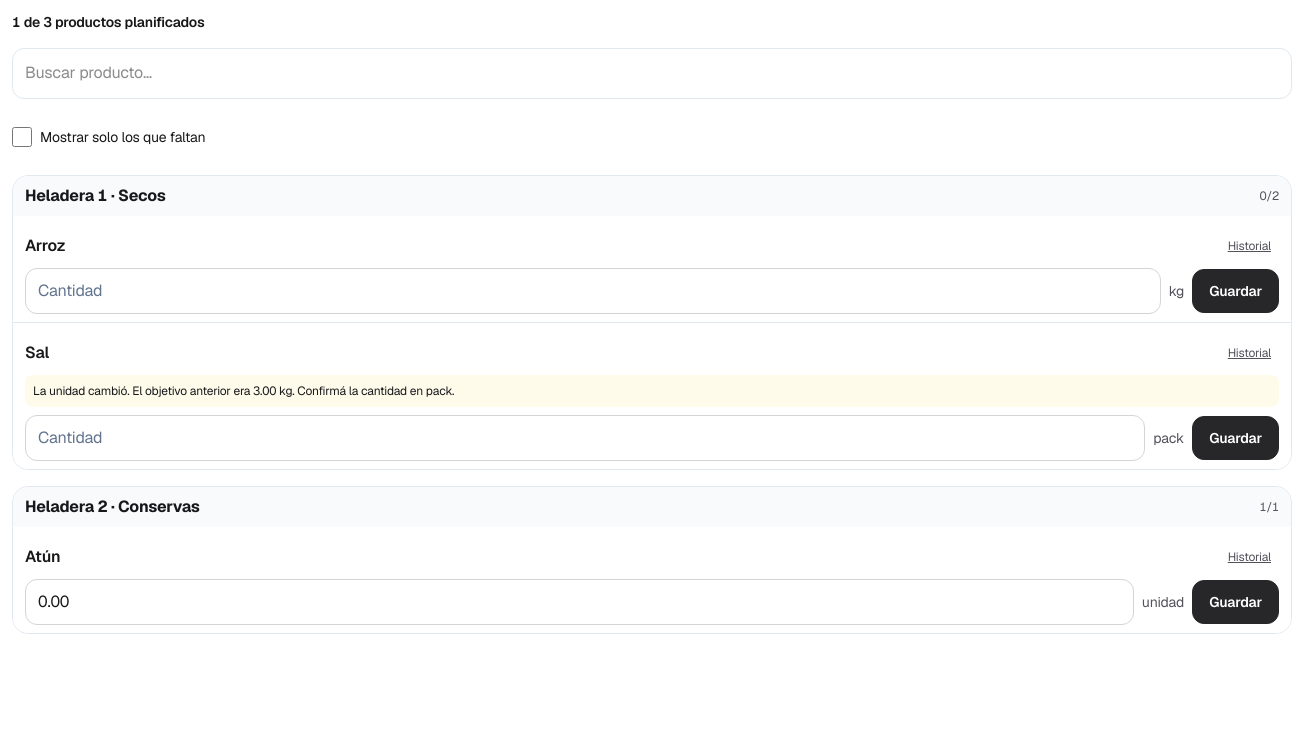
it: counts zero as planned, flags changed units, and filters missing products and accent-insensitive search
Expected: the message shows "1 de 3", [12, 13, 204, 31]
Expected: the number field labelled "pack" is not empty, [25, 415, 1145, 461]
Click the checkbox at (22, 137), box [12, 127, 32, 147]
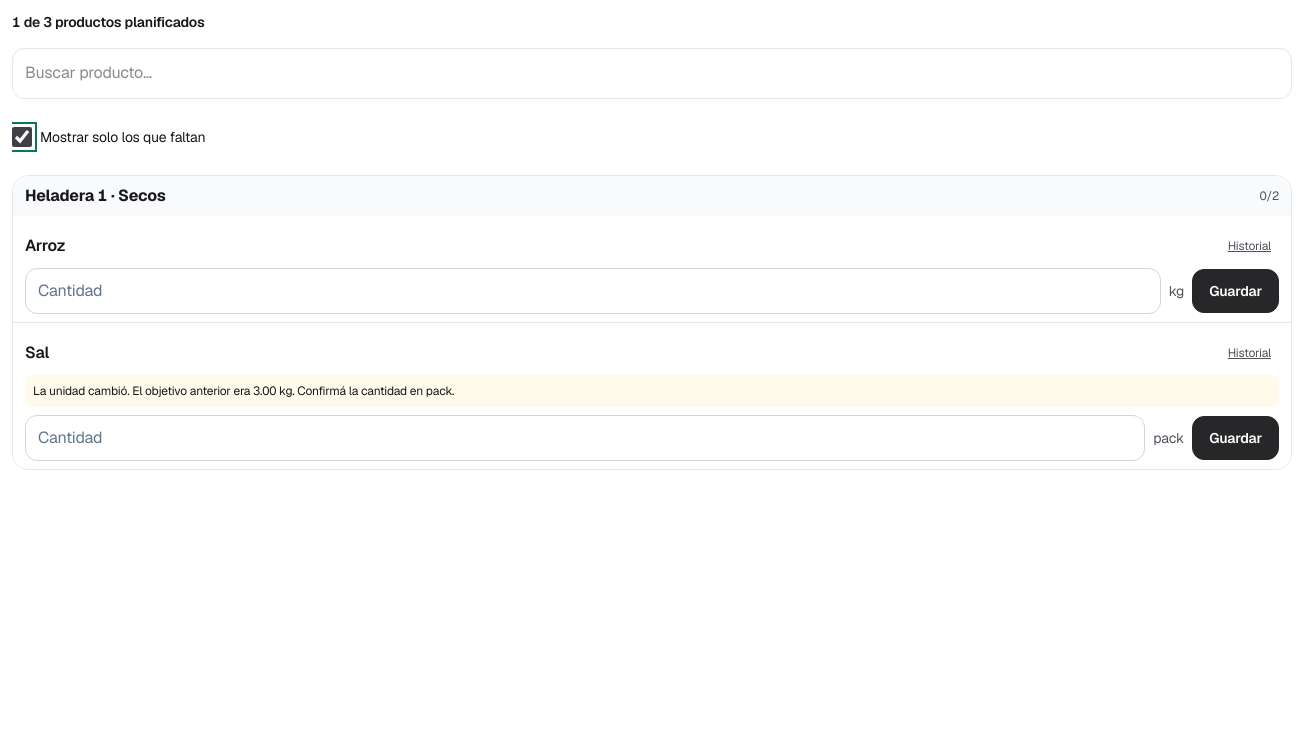
Expected: the element "Arroz" is shown, [13, 216, 1291, 323]
Now the heading "Atún" is gone
Click the checkbox at (22, 137), box [12, 127, 32, 147]
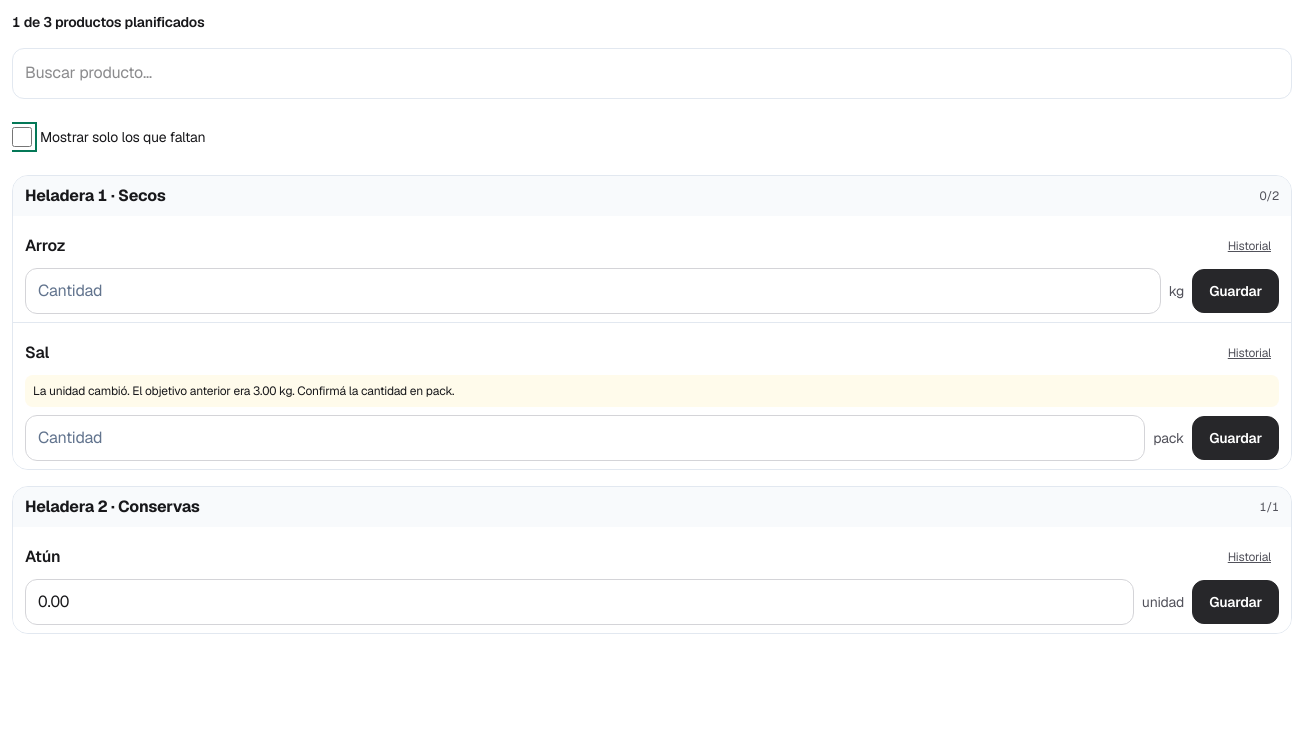
Type "atun" into the search field at (652, 73), box [12, 48, 1292, 99]
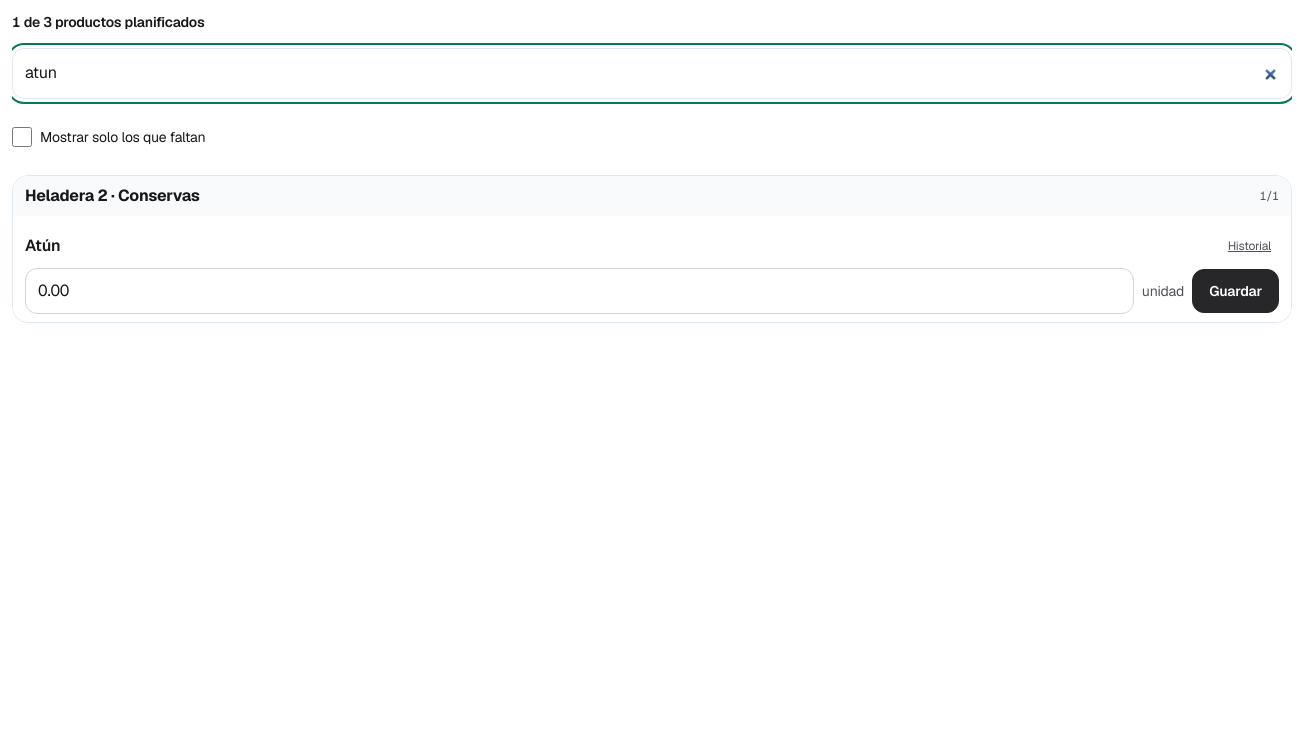
Now the element "Atún" is shown, box [13, 216, 1291, 322]
Now the heading "Arroz" is gone
